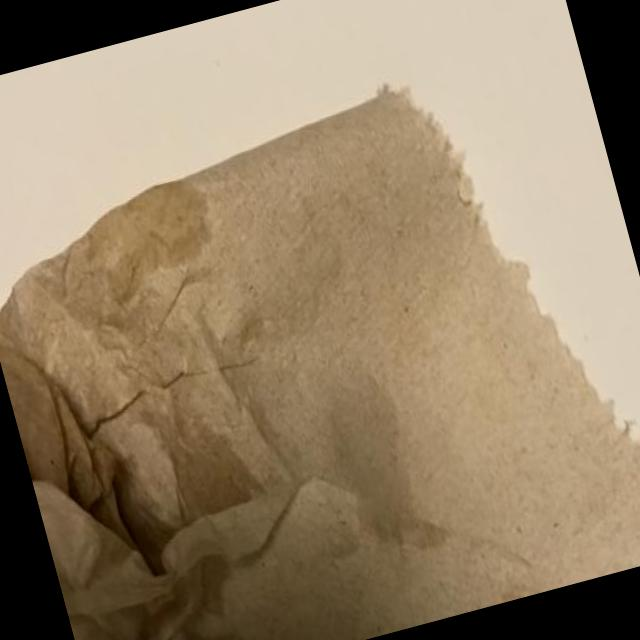giay: (0, 93, 640, 640)
